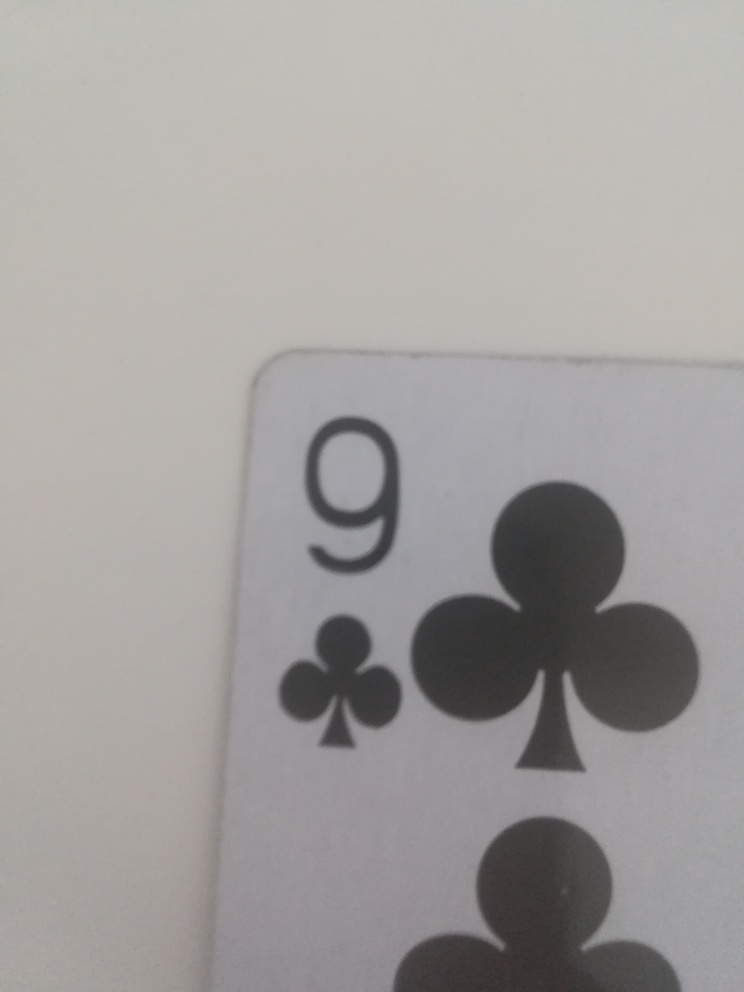9C: (263, 397, 439, 769)
